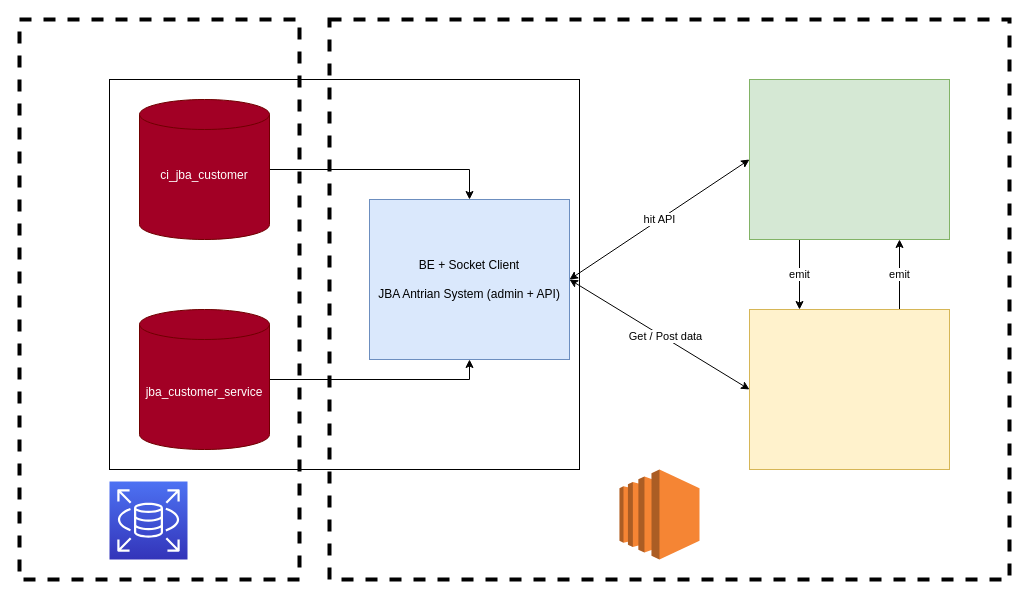
Some shapes in this 1028 by 598 pixel diagram are drawn without their labels. The shapes that lost their labels are listed below. From the top down, each one's centre as x and y in pixels, then its label:
[849,159]: FE + Socket Client 1. Customer Service Board 2. Box Info List Antrian
[849,389]: Socket Server
